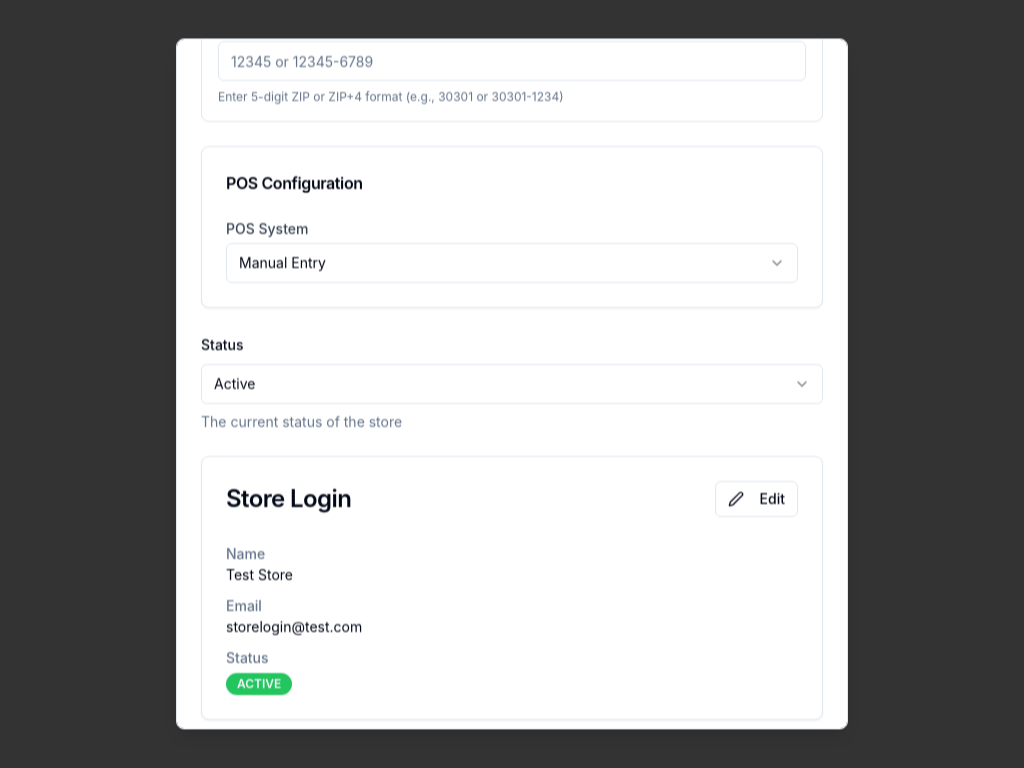
Test: 2.5-COMPONENT: EditStoreModal Component › Status Change Confirmation › [P0] 2.5-COMPONENT-010: should update status when confirmation is confirmed
(page scrolled)
# User changes status to INACTIVE and confirms
Click the dropdown named "Status" at (235, 384), box [201,364,823,404]
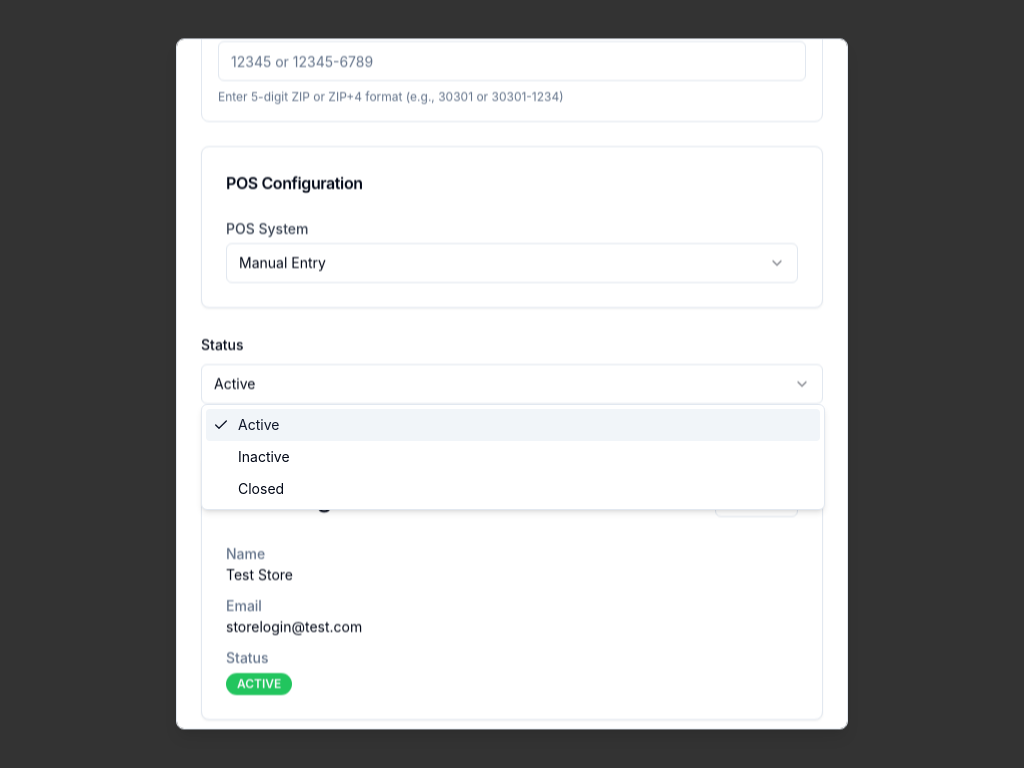
# Use getByRole to find the option in the dropdown
Click the option "Inactive" at (264, 456), box [238,448,290,465]
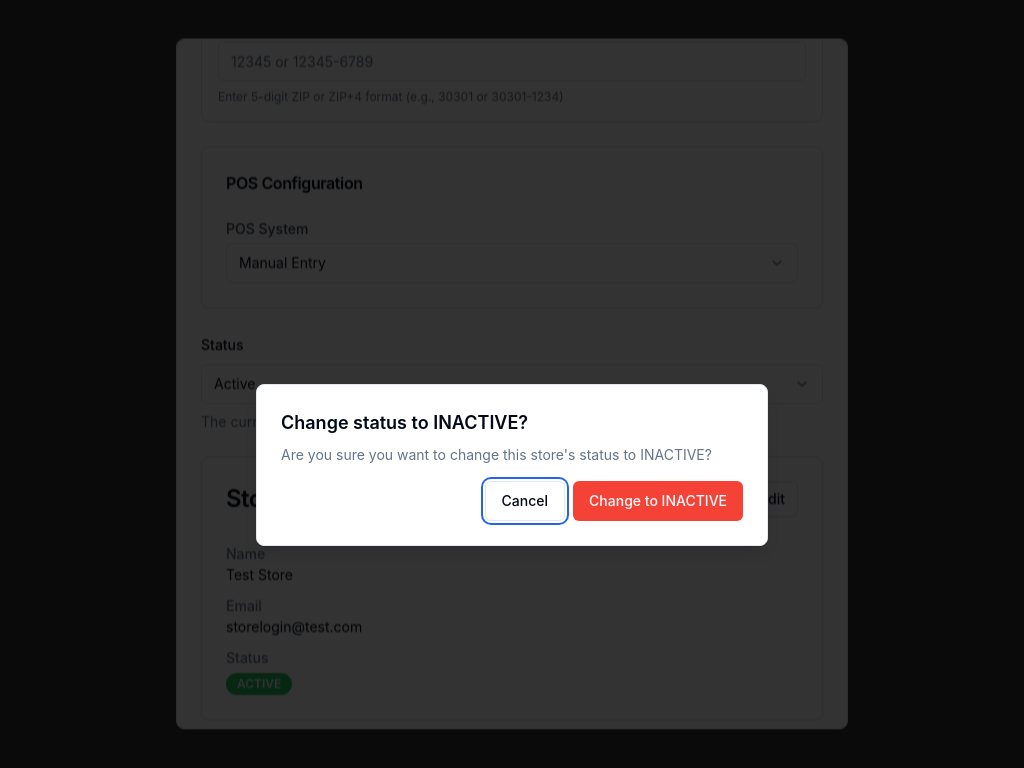
Expected: the heading "Change status to INACTIVE?" is shown, [281,412,528,433]
Click the button "Change to INACTIVE" at (658, 501), box [573,481,743,521]
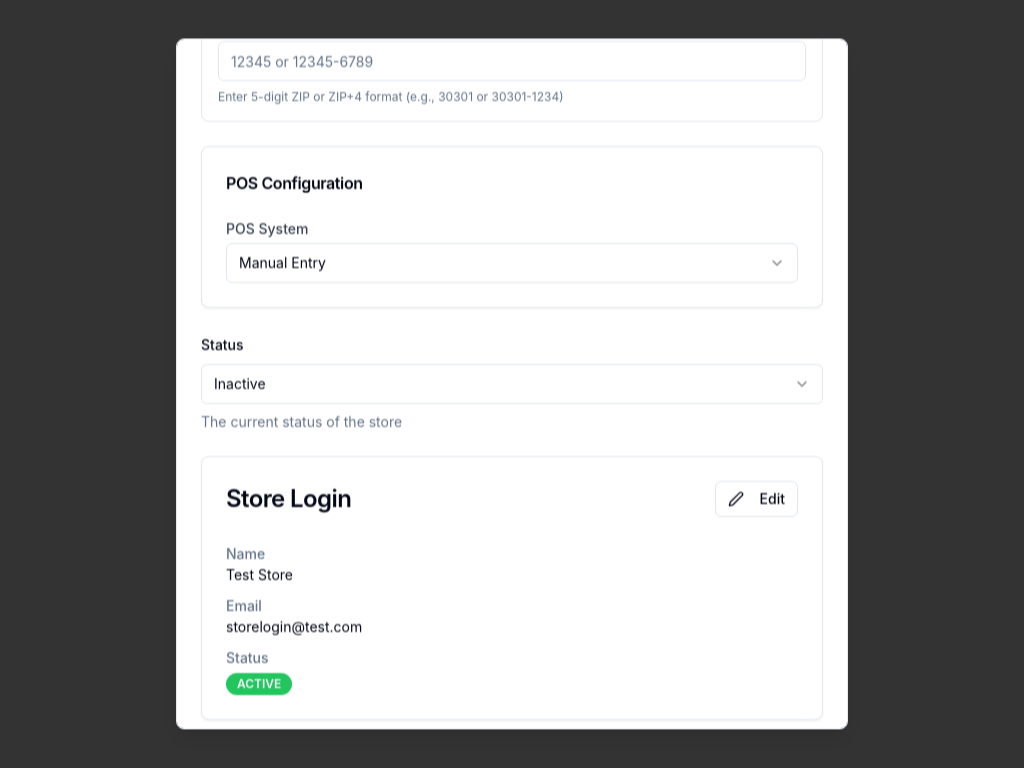
Expected: the heading "Change status to INACTIVE" is gone
